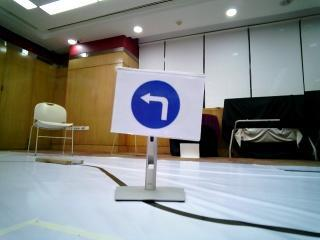left: (117, 68, 189, 137)
